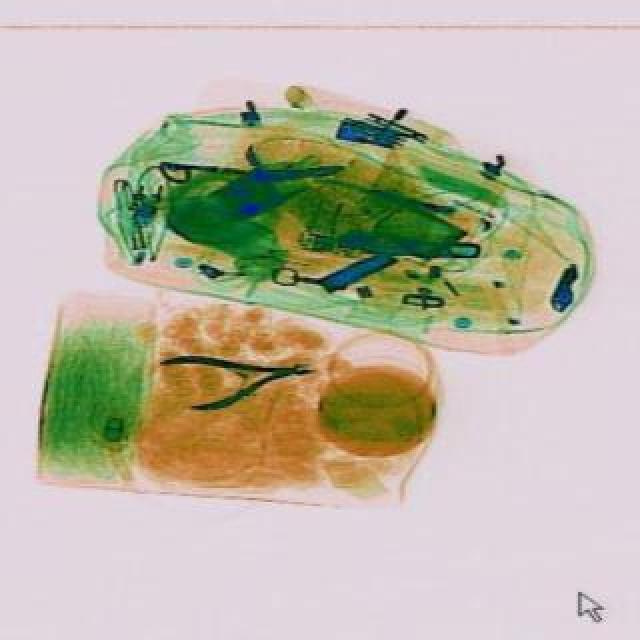wrench: (154, 338, 314, 416)
